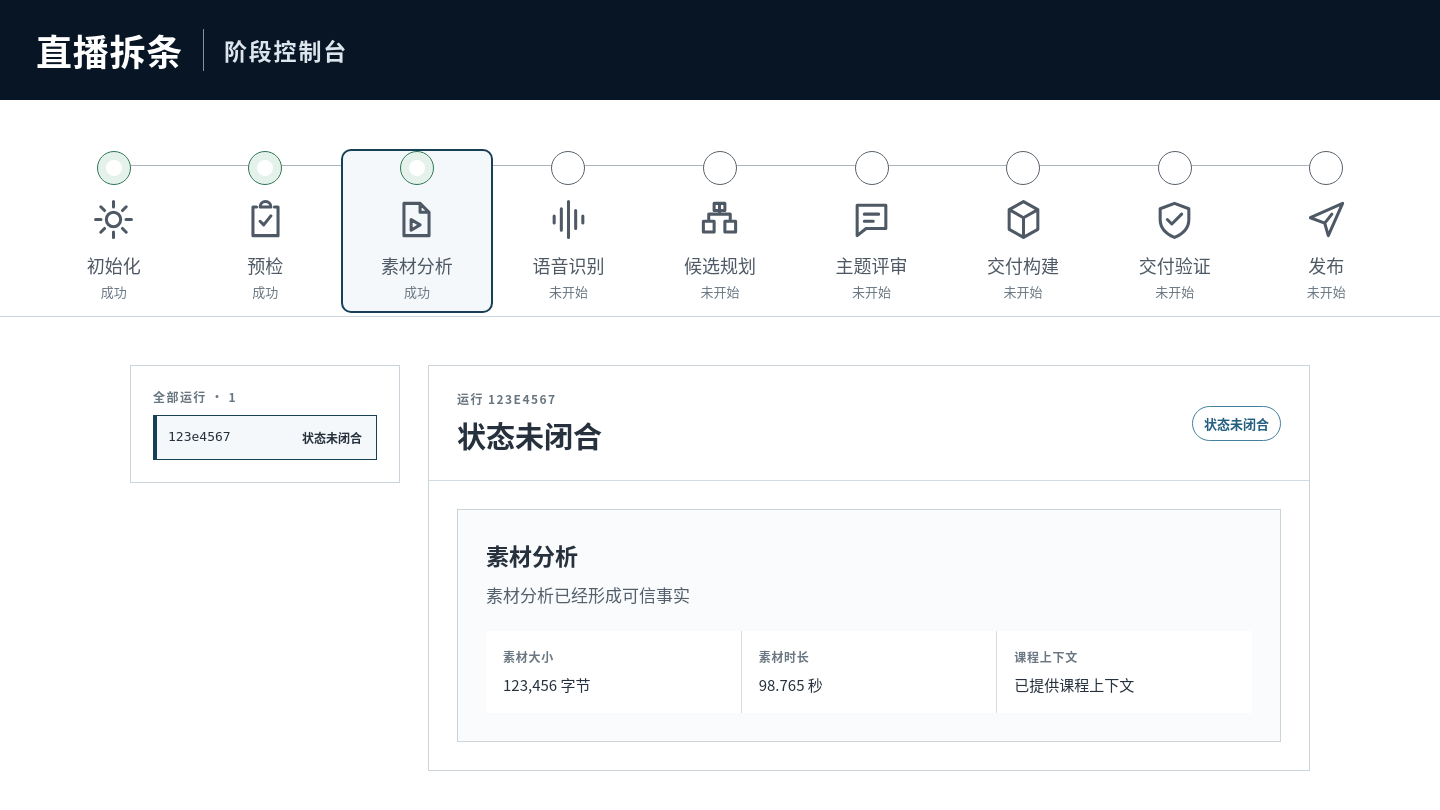
Test: 已发现运行可打开服务端语义投影并保持九阶段顺序
This screenshot has width=1440, height=810.
Expected: the text "123,456 字节" is shown, [503,674,590,695]
Expected: the text "已提供课程上下文" is shown, [1014,674,1134,695]
Click the button "预检 成功". click: x=265, y=231
box: [190,149,341,313]
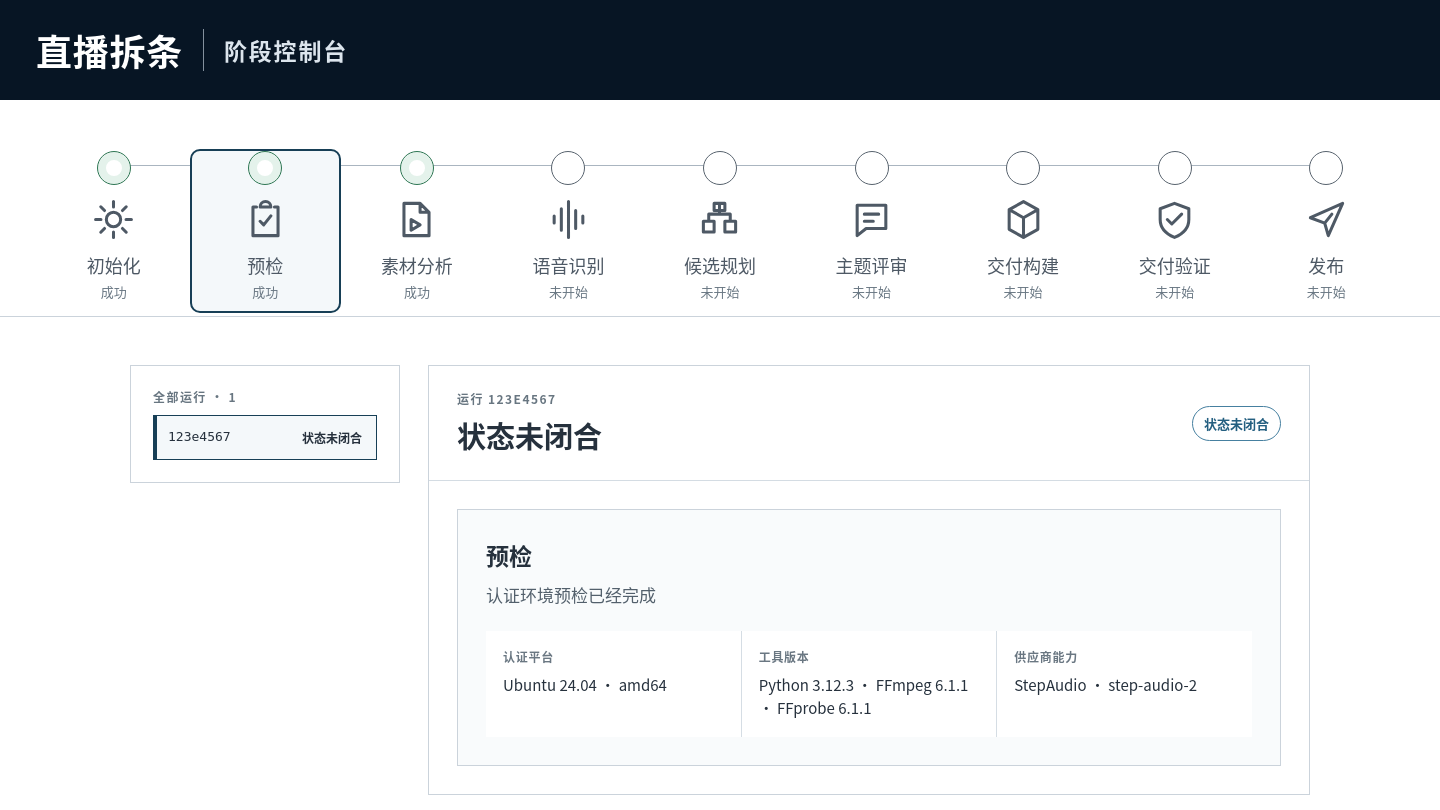
Now the text "Ubuntu 24.04 · amd64" is shown, box [503,674,667,695]
Now the text "StepAudio · step-audio-2" is shown, box [1014,674,1197,695]
